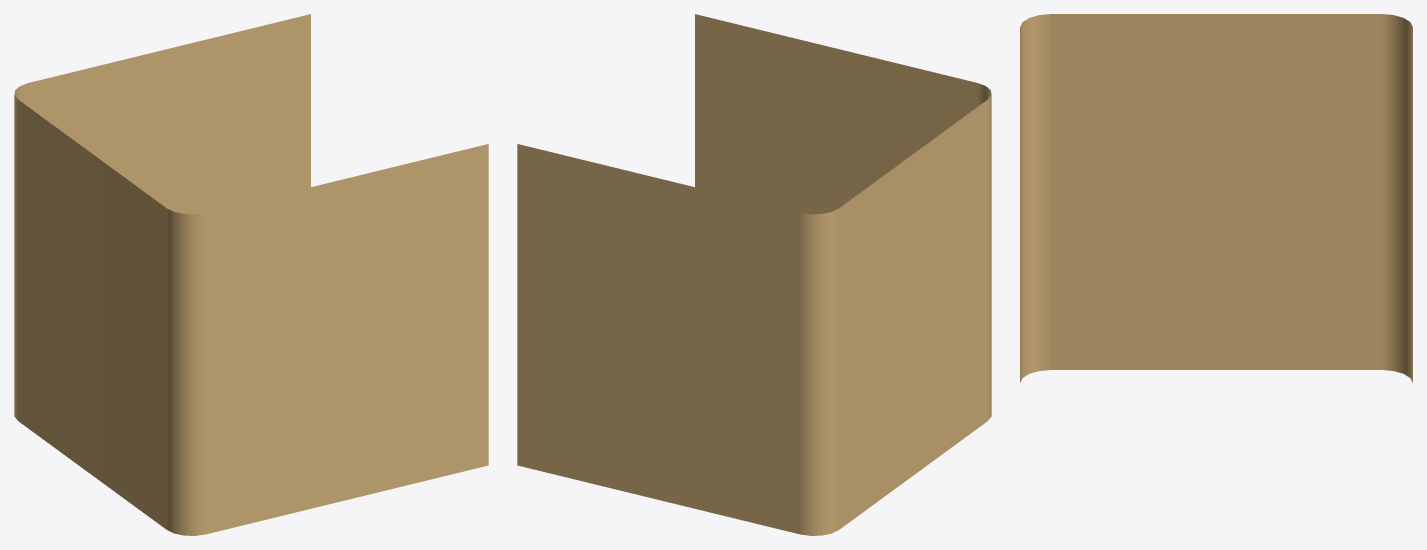
File: platform_cornerHeight.fbx
The picture shows the model from 3 angles, left to right: view 1: azimuth 30°, elevation 25°; view 2: azimuth 150°, elevation 25°; view 3: azimuth 270°, elevation 25°; orthographic projection. The views are drawn at different scales.
Parts seen in each view (by area): view 1: platform_cornerHeight; view 2: platform_cornerHeight; view 3: platform_cornerHeight.
Part boxes in pixels (box(x1,y1,x2,y2)): platform_cornerHeight: box(14, 14, 488, 535); platform_cornerHeight: box(517, 14, 991, 535); platform_cornerHeight: box(1020, 14, 1412, 382).
Bounding box in the file's own units: 100 × 100 × 100.
